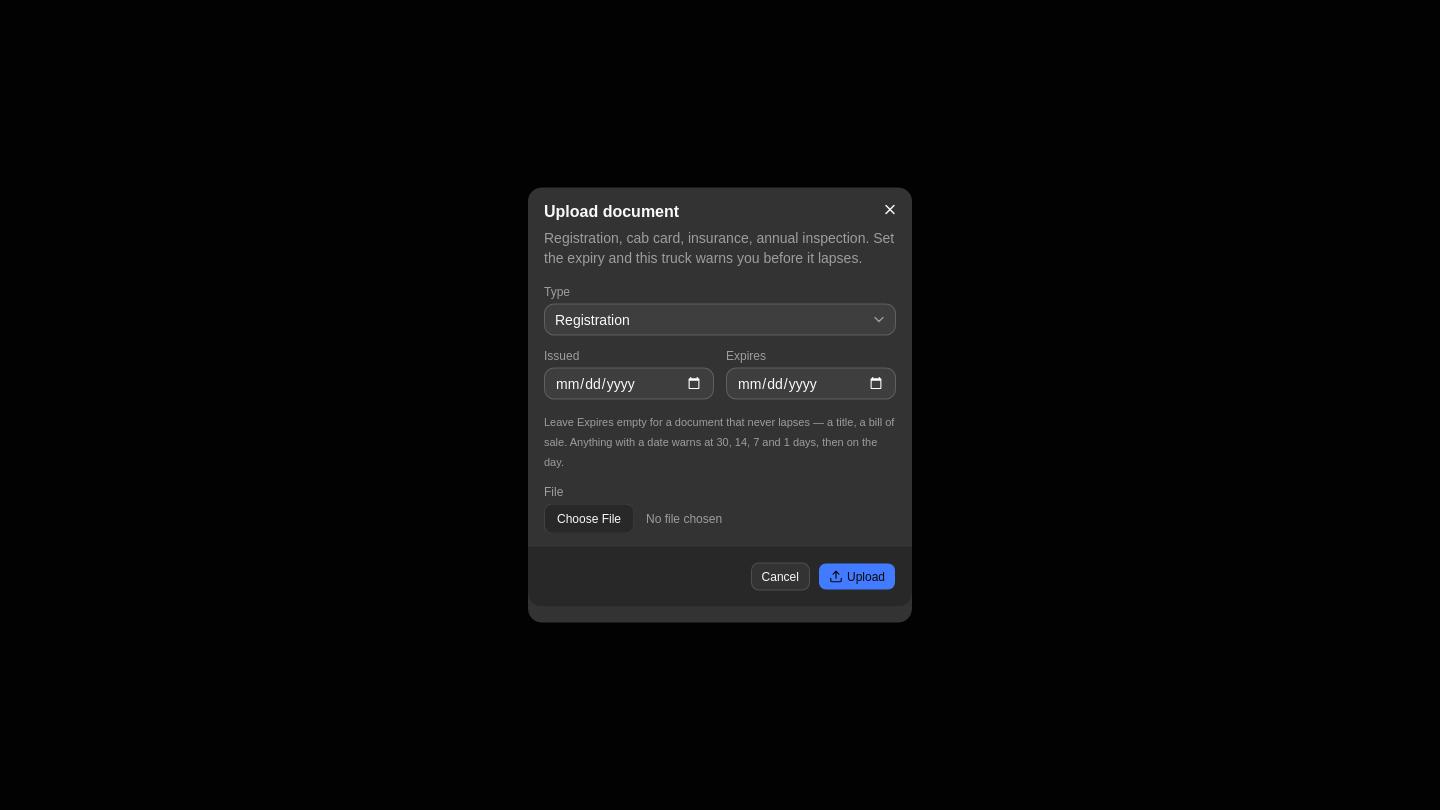
Test: Upload document › refuses to send without a file, and says which field
The image size is (1440, 810).
Click the button "Upload": (857, 576) top-left (818, 562), bottom-right (896, 590)
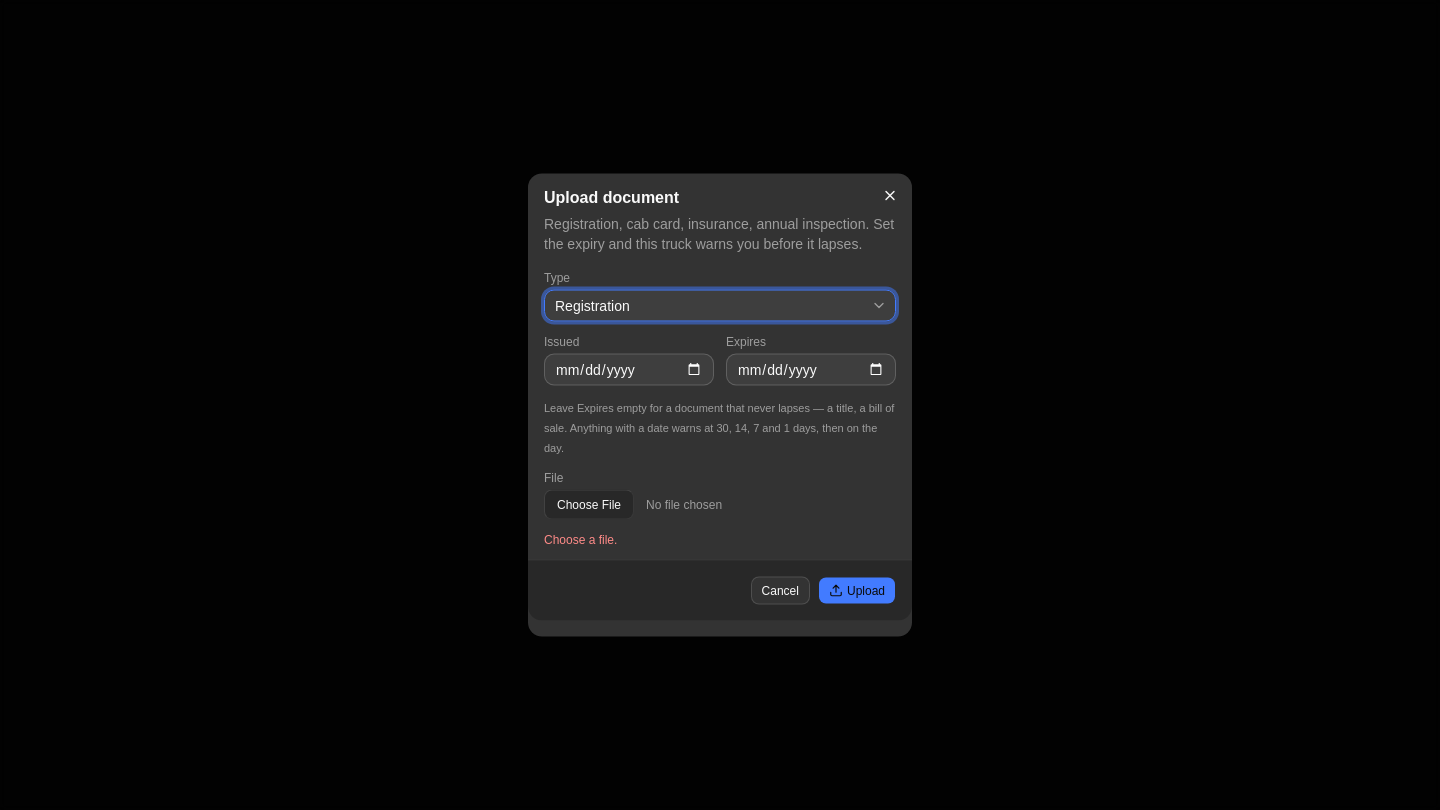
Check: the text "Choose a file." is shown, box top-left (544, 532), bottom-right (617, 546)
